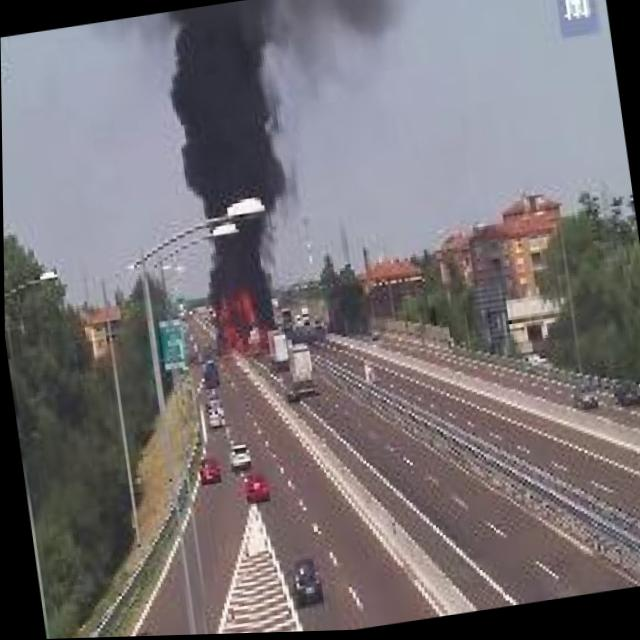fire: (202, 282, 269, 366)
